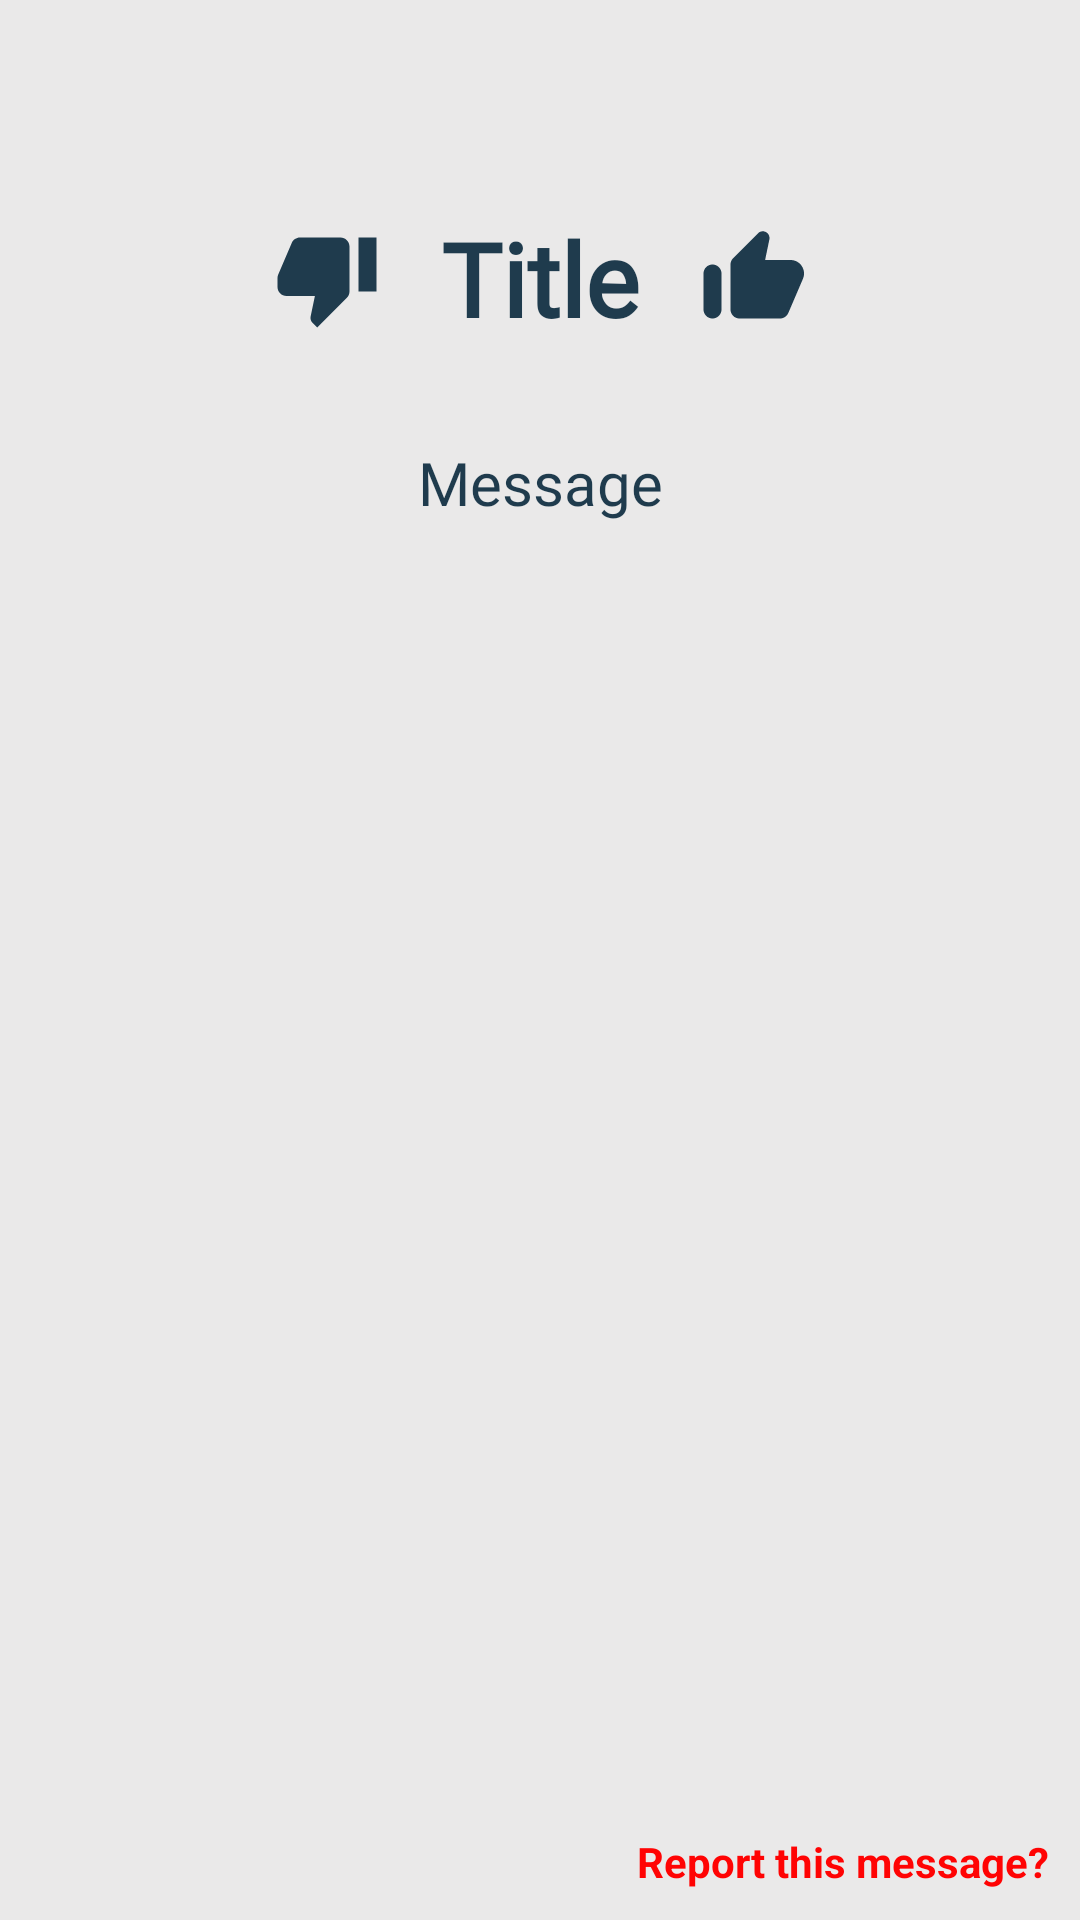

Icons on this 1080×1920 Android screen, each with the point to tap as point (x, y):
dislike: point (327, 282)
like: point (753, 275)
